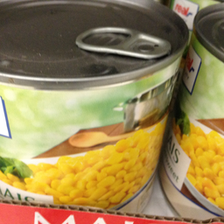corn: (1, 1, 185, 211), (159, 9, 224, 219)
